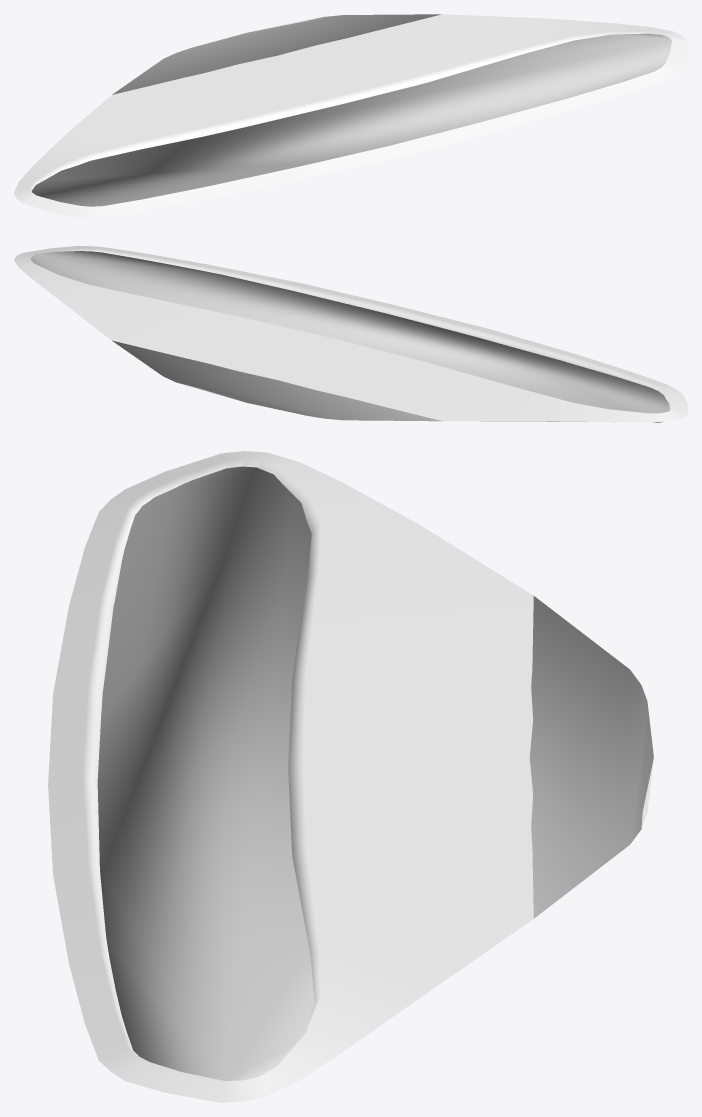
The picture shows the model from 3 angles, top to bottom: view 1: azimuth 30°, elevation 25°; view 2: azimuth 150°, elevation 25°; view 3: azimuth 270°, elevation 25°; orthographic projection. The views are drawn at different scales.
Visible parts, largest first — view 1: grille_eclipse_head_01, grille_eclipse_head_01_col; view 2: grille_eclipse_head_01, grille_eclipse_head_01_col; view 3: grille_eclipse_head_01, grille_eclipse_head_01_col.
Boxes of the visible parts, x1,y1,x2,y2 form: grille_eclipse_head_01: [14, 14, 687, 217]; grille_eclipse_head_01_col: [32, 14, 671, 206]; grille_eclipse_head_01: [14, 246, 687, 422]; grille_eclipse_head_01_col: [30, 251, 669, 422]; grille_eclipse_head_01: [48, 451, 653, 1102]; grille_eclipse_head_01_col: [97, 466, 653, 1080].
Size of the model in its own units: 0.5018 by 0.0143 by 0.1975.
Materials: 1 (1 with a texture image).
